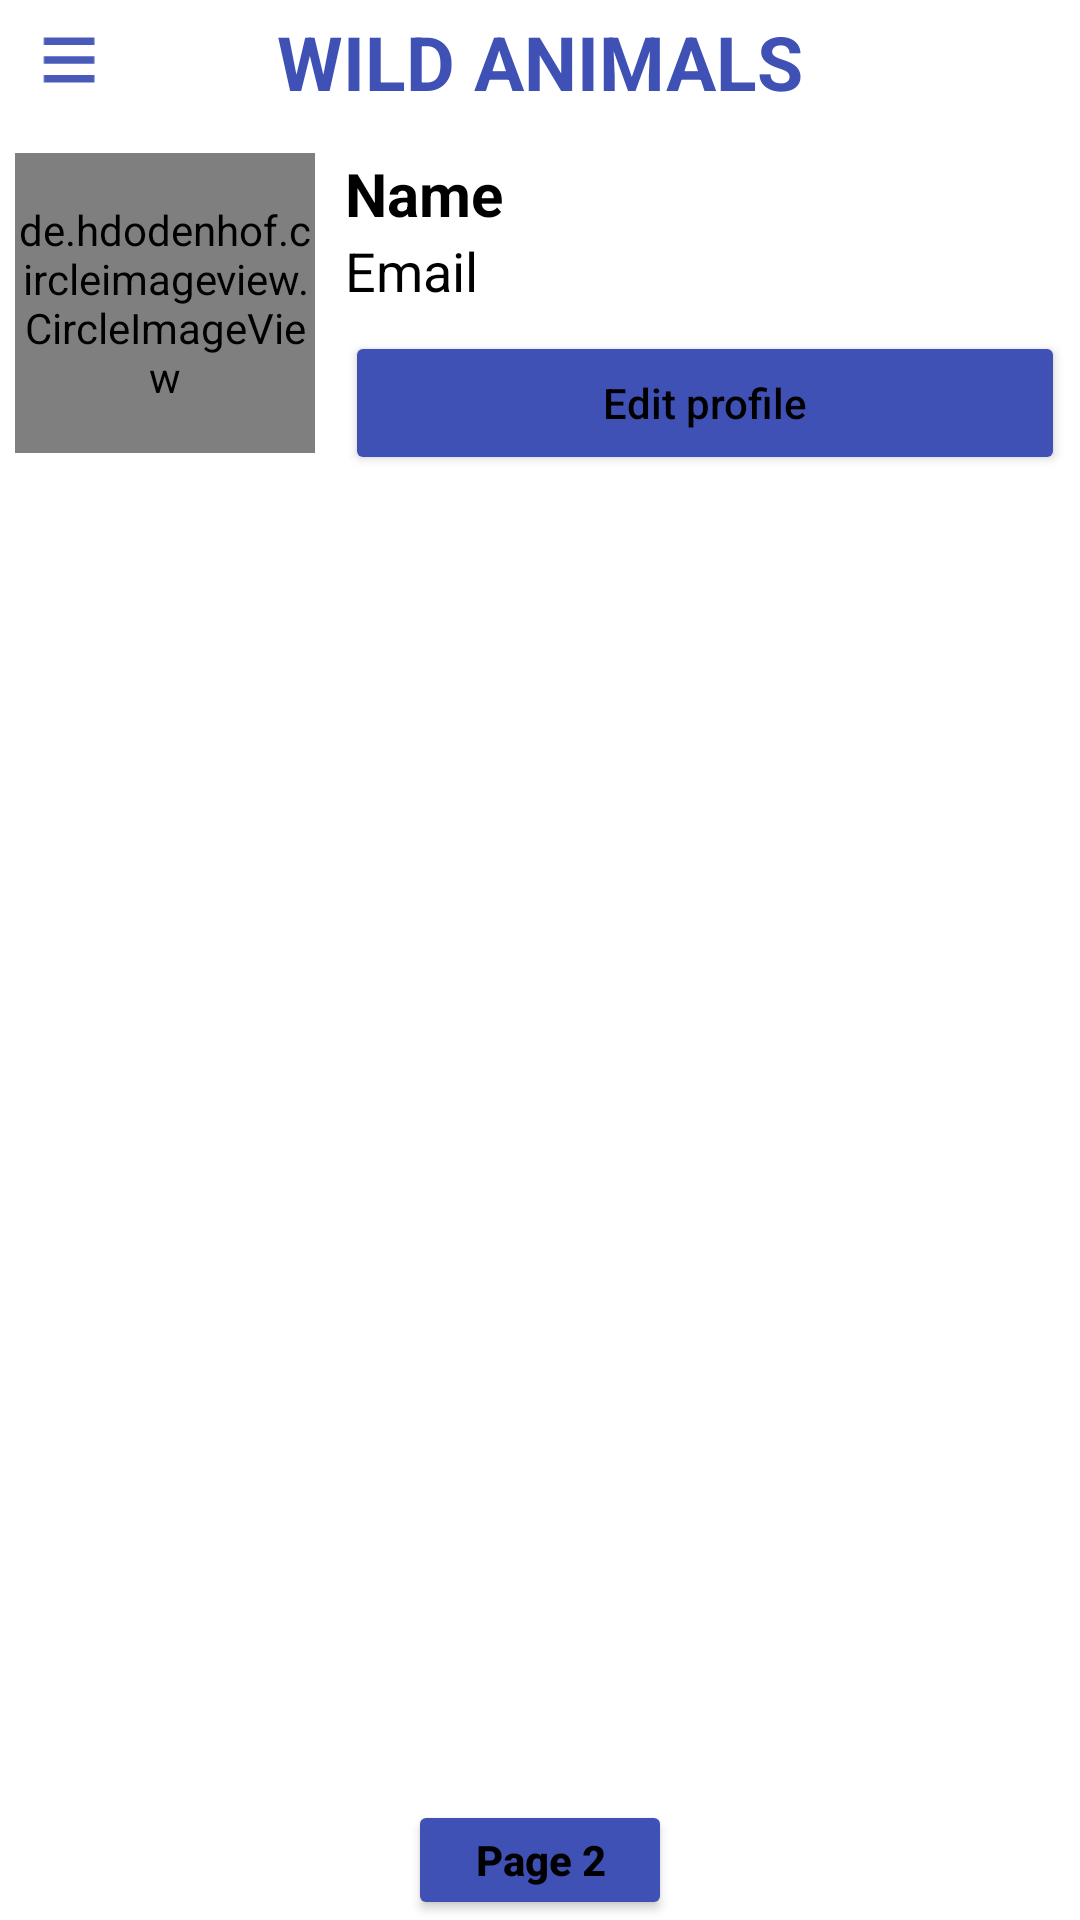

Where to tap for icons on this 1080px x 1920px app screen, as (x=x, y=y):
menu: (x=69, y=60)
